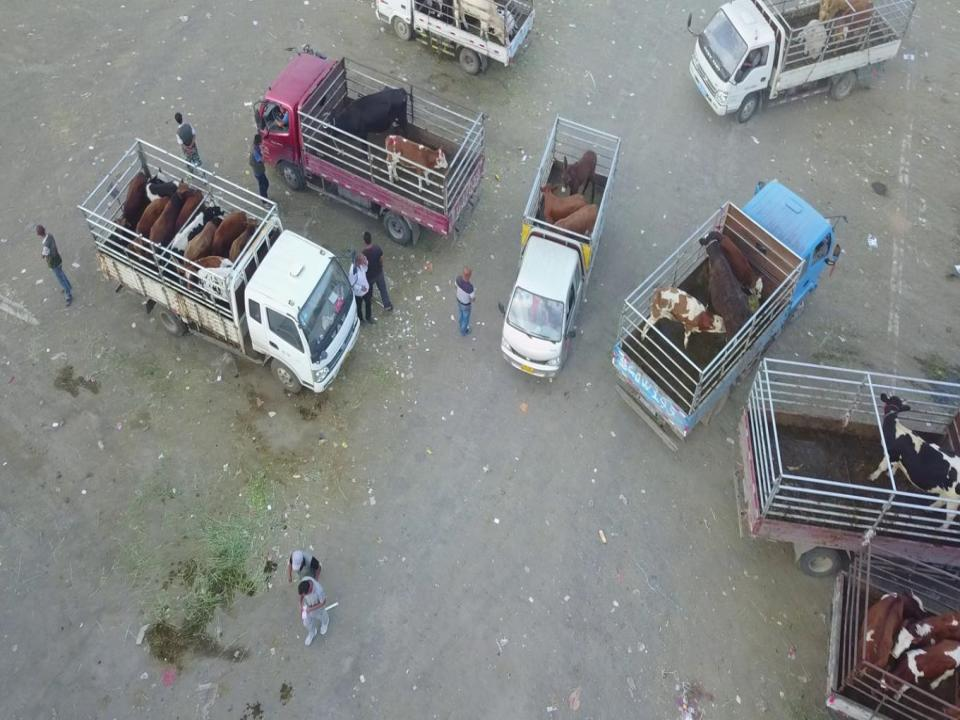truck: (77, 136, 361, 397), (612, 180, 840, 456), (737, 356, 960, 576), (254, 45, 487, 249), (496, 114, 624, 390), (686, 0, 924, 127), (829, 543, 960, 720), (375, 0, 536, 77)
